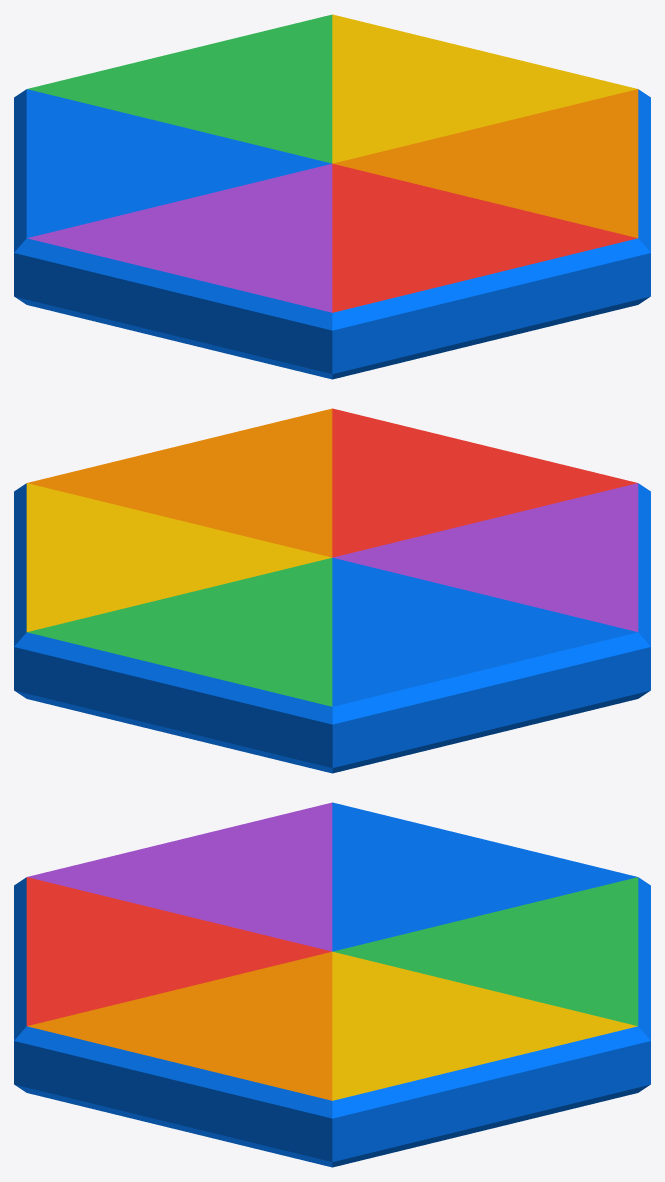
File: Hex.fbx
The picture shows the model from 3 angles, top to bottom: view 1: azimuth 30°, elevation 25°; view 2: azimuth 150°, elevation 25°; view 3: azimuth 270°, elevation 25°; orthographic projection.
Visible parts, largest first — view 1: Cylinder; view 2: Cylinder; view 3: Cylinder.
Part boxes in pixels (left/top/right/bottom): Cylinder: left=14, top=14, right=650, bottom=379; Cylinder: left=14, top=408, right=650, bottom=773; Cylinder: left=14, top=802, right=650, bottom=1167.
Bounding box in the file's own units: 100 × 10 × 86.6.
